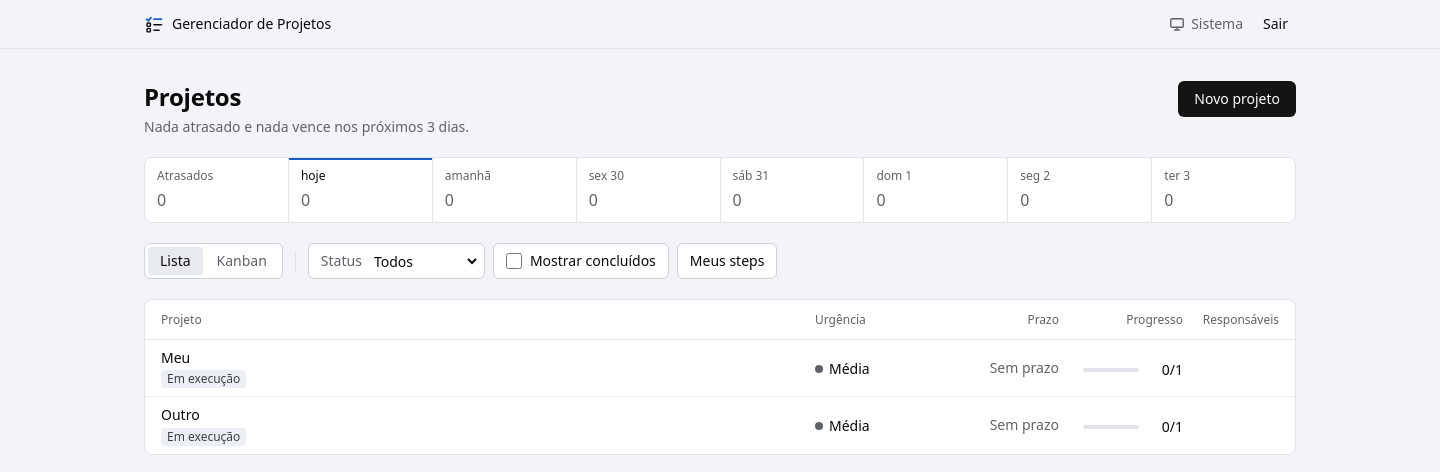
Test: App › Meus steps filtra por user.id
The image size is (1440, 472).
Expected: the text "Outro" is shown, [161, 405, 200, 424]
Click the button "Meus steps" at (727, 261), box [677, 243, 777, 279]
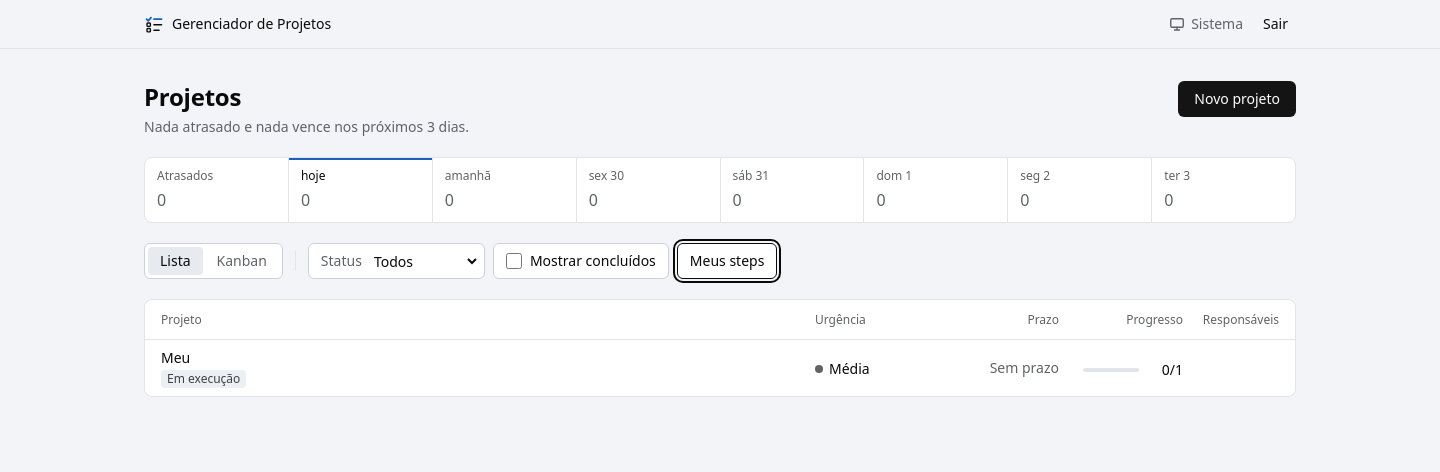
Expected: the text "Meu" is shown, [161, 348, 190, 367]
Expected: the button "Outro" is gone
